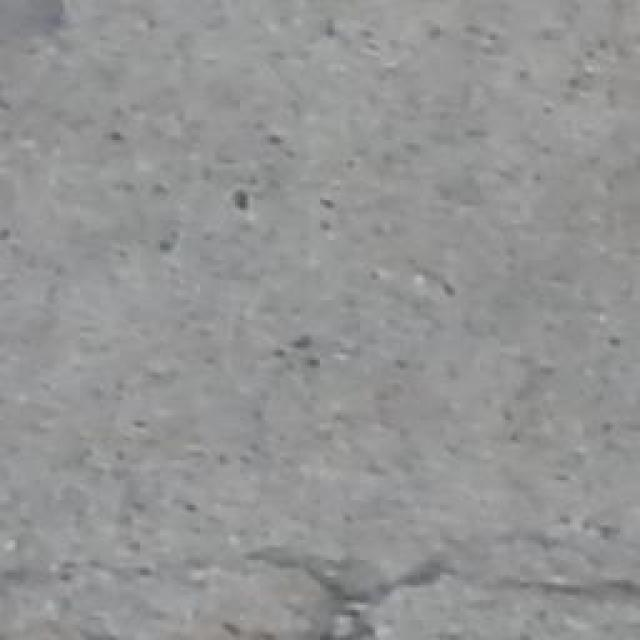concrete-crack: (242, 546, 639, 640)
